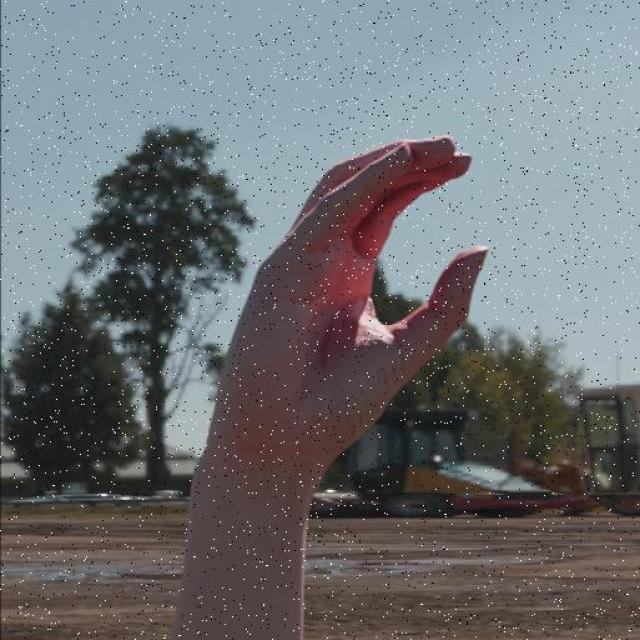C: (214, 132, 492, 456)
